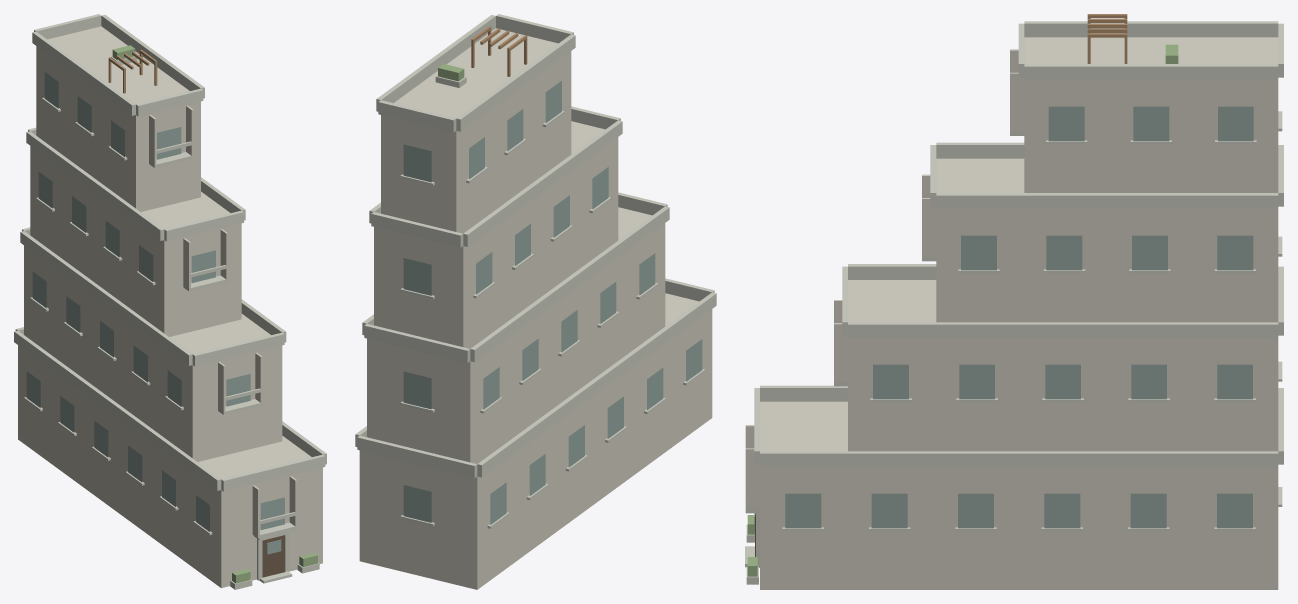
File: residential_1x3_terraces.glb
3 views of the same model, side by side, from view 1: azimuth 30°, elevation 25°; view 2: azimuth 150°, elevation 25°; view 3: azimuth 270°, elevation 25° (orthographic). The views are drawn at different scales.
Parts seen in each view (by area): view 1: residential_1x3_terraces_0; view 2: residential_1x3_terraces_0; view 3: residential_1x3_terraces_0.
Part boxes in pixels (<box>): residential_1x3_terraces_0: <box>14,14,326,589</box>; residential_1x3_terraces_0: <box>355,14,716,589</box>; residential_1x3_terraces_0: <box>745,14,1283,589</box>.
Size of the model in its own units: 7 by 25.5 by 23.4.
